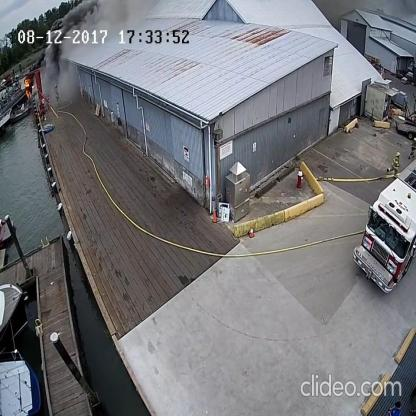fire: (22, 77, 36, 101)
